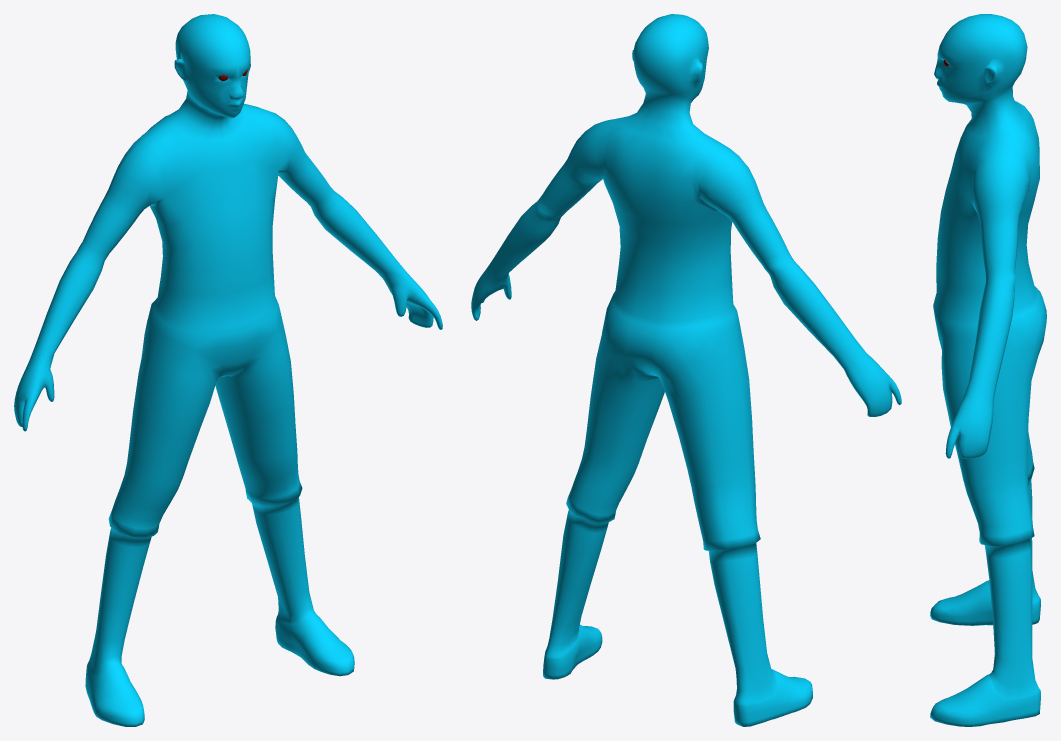
3 renders of one model, left to right at view 1: azimuth 30°, elevation 25°; view 2: azimuth 150°, elevation 25°; view 3: azimuth 270°, elevation 25°, orthographic. The views are drawn at different scales.
Visible parts, largest first — view 1: Cube; view 2: Cube; view 3: Cube.
Part boxes in pixels (x1,y1,x2,y2): Cube: (14, 14, 442, 726); Cube: (471, 14, 901, 726); Cube: (930, 14, 1046, 726).
Bounding box in the file's own units: 1.21 × 1.82 × 0.2958.
